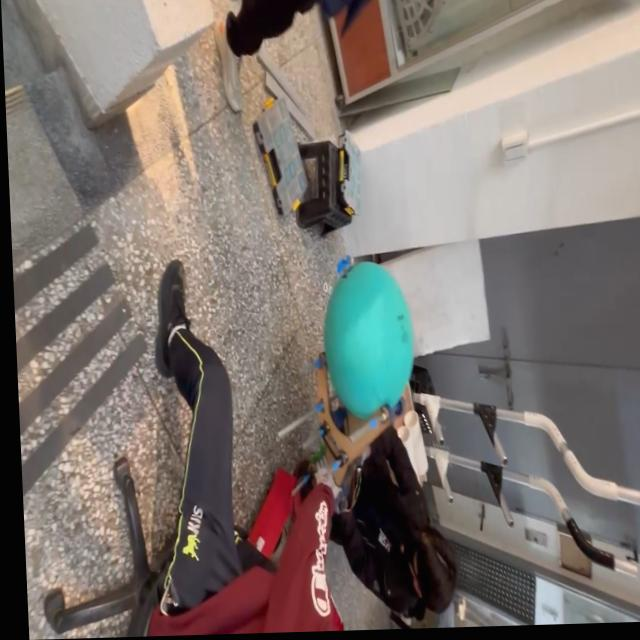ALGAE: (319, 257, 418, 421)
